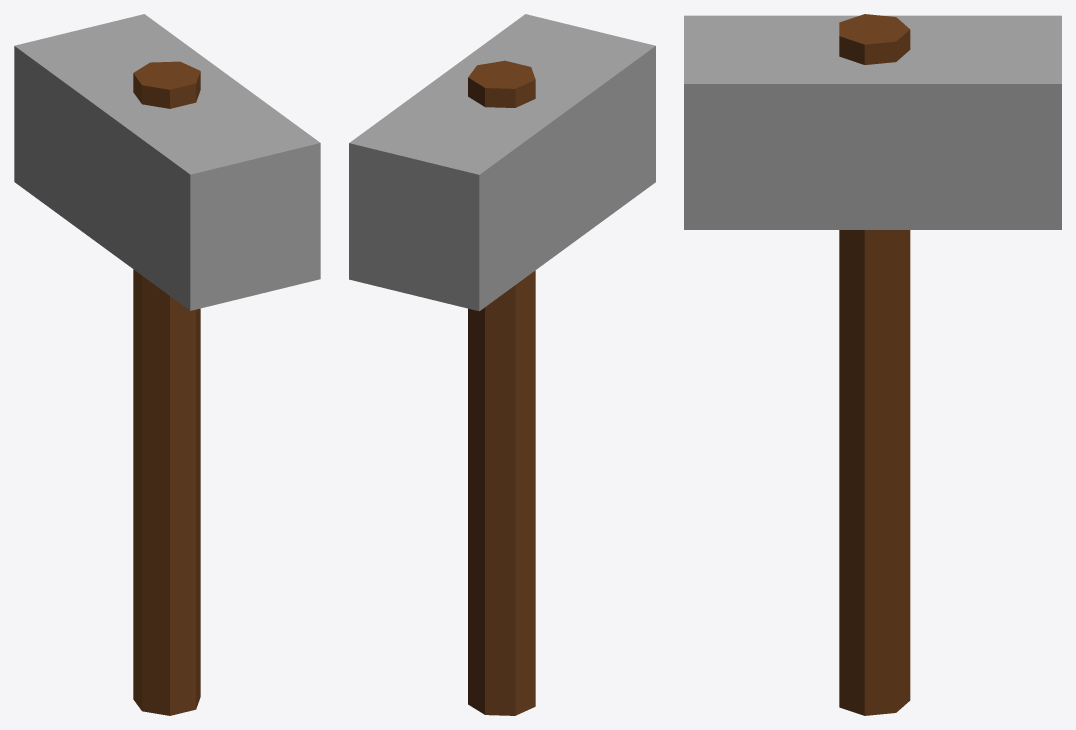
File: stoneHammer.fbx
The picture shows the model from 3 angles, left to right: view 1: azimuth 30°, elevation 25°; view 2: azimuth 150°, elevation 25°; view 3: azimuth 270°, elevation 25°; orthographic projection. The views are drawn at different scales.
Visible parts, largest first — view 1: StoneHammer; view 2: StoneHammer; view 3: StoneHammer.
Part boxes in pixels (x1,y1,x2,y2): StoneHammer: (14, 14, 320, 715); StoneHammer: (349, 14, 655, 715); StoneHammer: (684, 14, 1061, 715).
Size of the model in its own units: 21.19 by 49.67 by 97.39.
